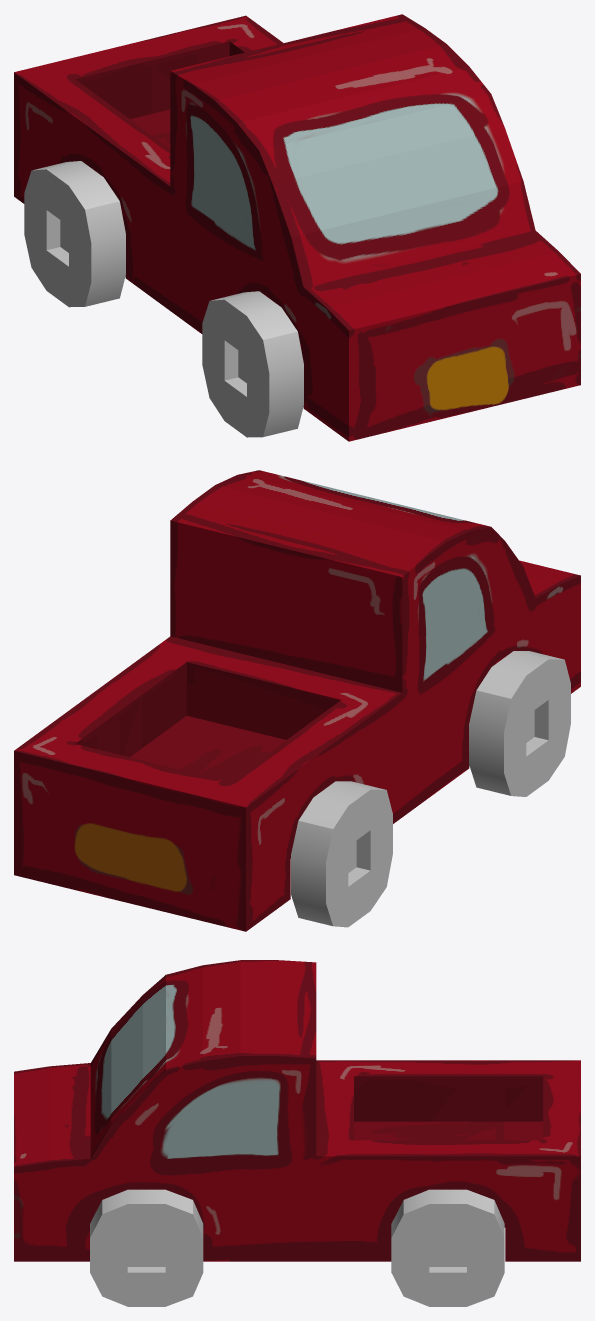
Rendered from Truck.fbx.
The picture shows the model from 3 angles, top to bottom: view 1: azimuth 30°, elevation 25°; view 2: azimuth 150°, elevation 25°; view 3: azimuth 270°, elevation 25°; orthographic projection. The views are drawn at different scales.
Visible parts, largest first — view 1: car_body, wheel2, wheel3; view 2: car_body, wheel3, wheel2; view 3: car_body, wheel1, wheel.
Part boxes in pixels (bbox=[...]): car_body: bbox=[14, 14, 580, 441]; wheel2: bbox=[202, 291, 303, 437]; wheel3: bbox=[24, 161, 125, 307]; car_body: bbox=[14, 470, 580, 931]; wheel3: bbox=[291, 781, 392, 927]; wheel2: bbox=[469, 651, 570, 796]; car_body: bbox=[14, 960, 580, 1261]; wheel1: bbox=[391, 1189, 504, 1306]; wheel: bbox=[90, 1189, 203, 1306].
Bounding box in the file's own units: 1.3 × 1.15 × 2.5.
